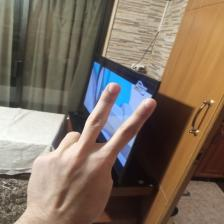two: (35, 80, 154, 202)
